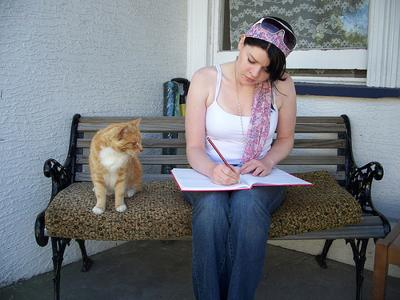person: (185, 17, 297, 299)
